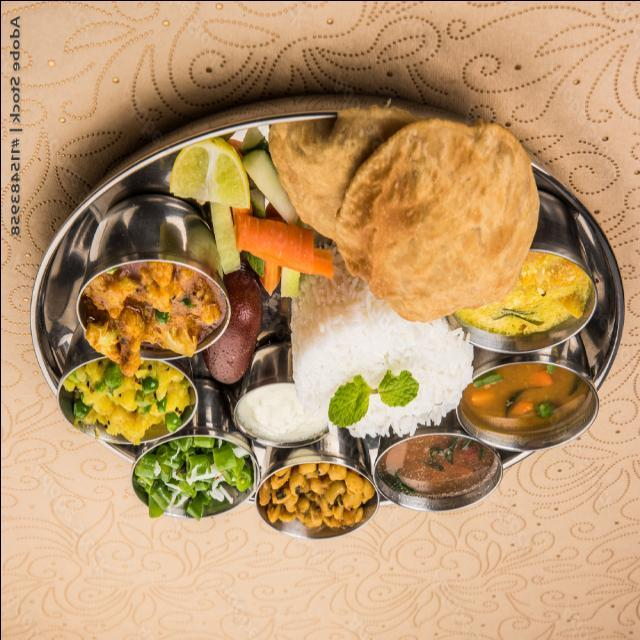curd: (238, 370, 329, 457)
dal: (472, 239, 598, 358), (65, 355, 196, 454), (464, 353, 594, 447)
raita: (233, 371, 331, 456)
rice: (294, 291, 470, 453)
roti: (284, 105, 536, 329)
sambar-rasam: (371, 422, 511, 513)
sweet: (207, 281, 267, 387)
veg-fry: (80, 236, 222, 385), (53, 349, 207, 455)
